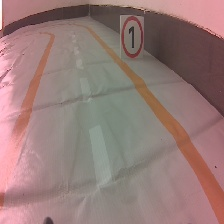limit: (117, 13, 149, 63)
